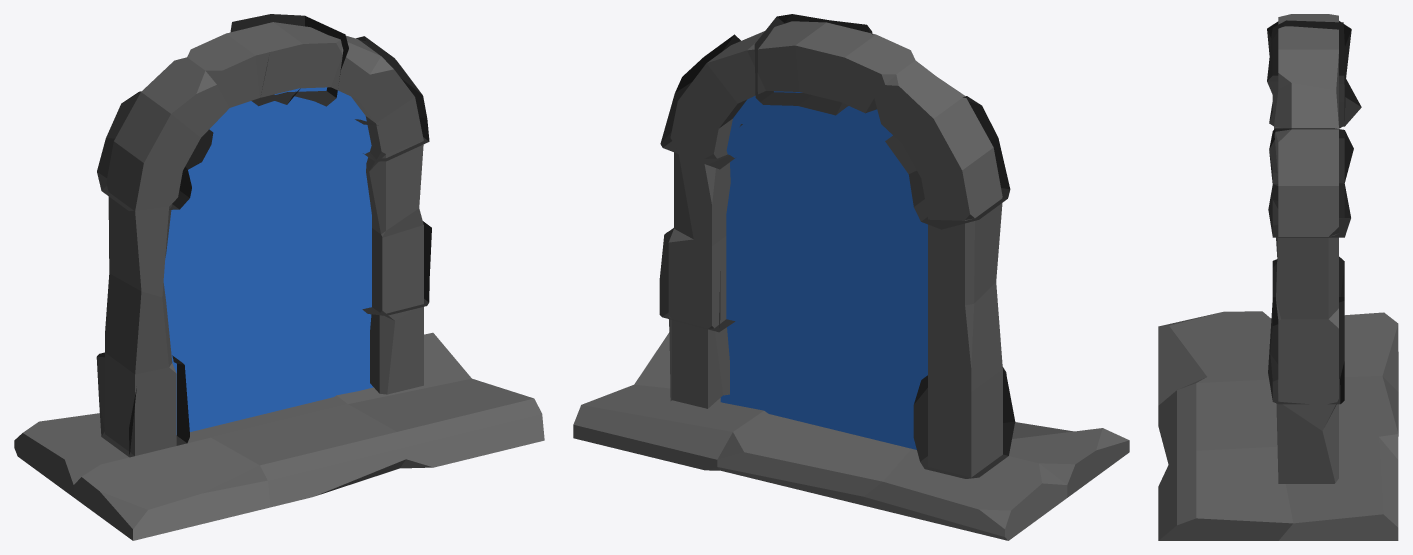
Rendered from portal.glb.
The picture shows the model from 3 angles, left to right: view 1: azimuth 30°, elevation 25°; view 2: azimuth 150°, elevation 25°; view 3: azimuth 270°, elevation 25°; orthographic projection. The views are drawn at different scales.
Parts seen in each view (by area): view 1: Plane.003, Plane, Plane.002, Plane.001; view 2: Plane, Plane.003, Plane.002, Plane.001; view 3: Plane.002, Plane, Plane.001.
Boxes of the visible parts, <box> form: Plane.003: <box>163,87,373,434</box>; Plane: <box>105,22,423,455</box>; Plane.002: <box>14,332,544,540</box>; Plane.001: <box>96,14,431,457</box>; Plane: <box>668,21,1002,477</box>; Plane.003: <box>720,91,927,449</box>; Plane.002: <box>573,332,1129,540</box>; Plane.001: <box>659,14,1015,478</box>; Plane.002: <box>1158,311,1398,540</box>; Plane: <box>1274,14,1338,483</box>; Plane.001: <box>1267,20,1361,404</box>.
Bounding box in the file's own units: 4.09 × 3.77 × 2.
